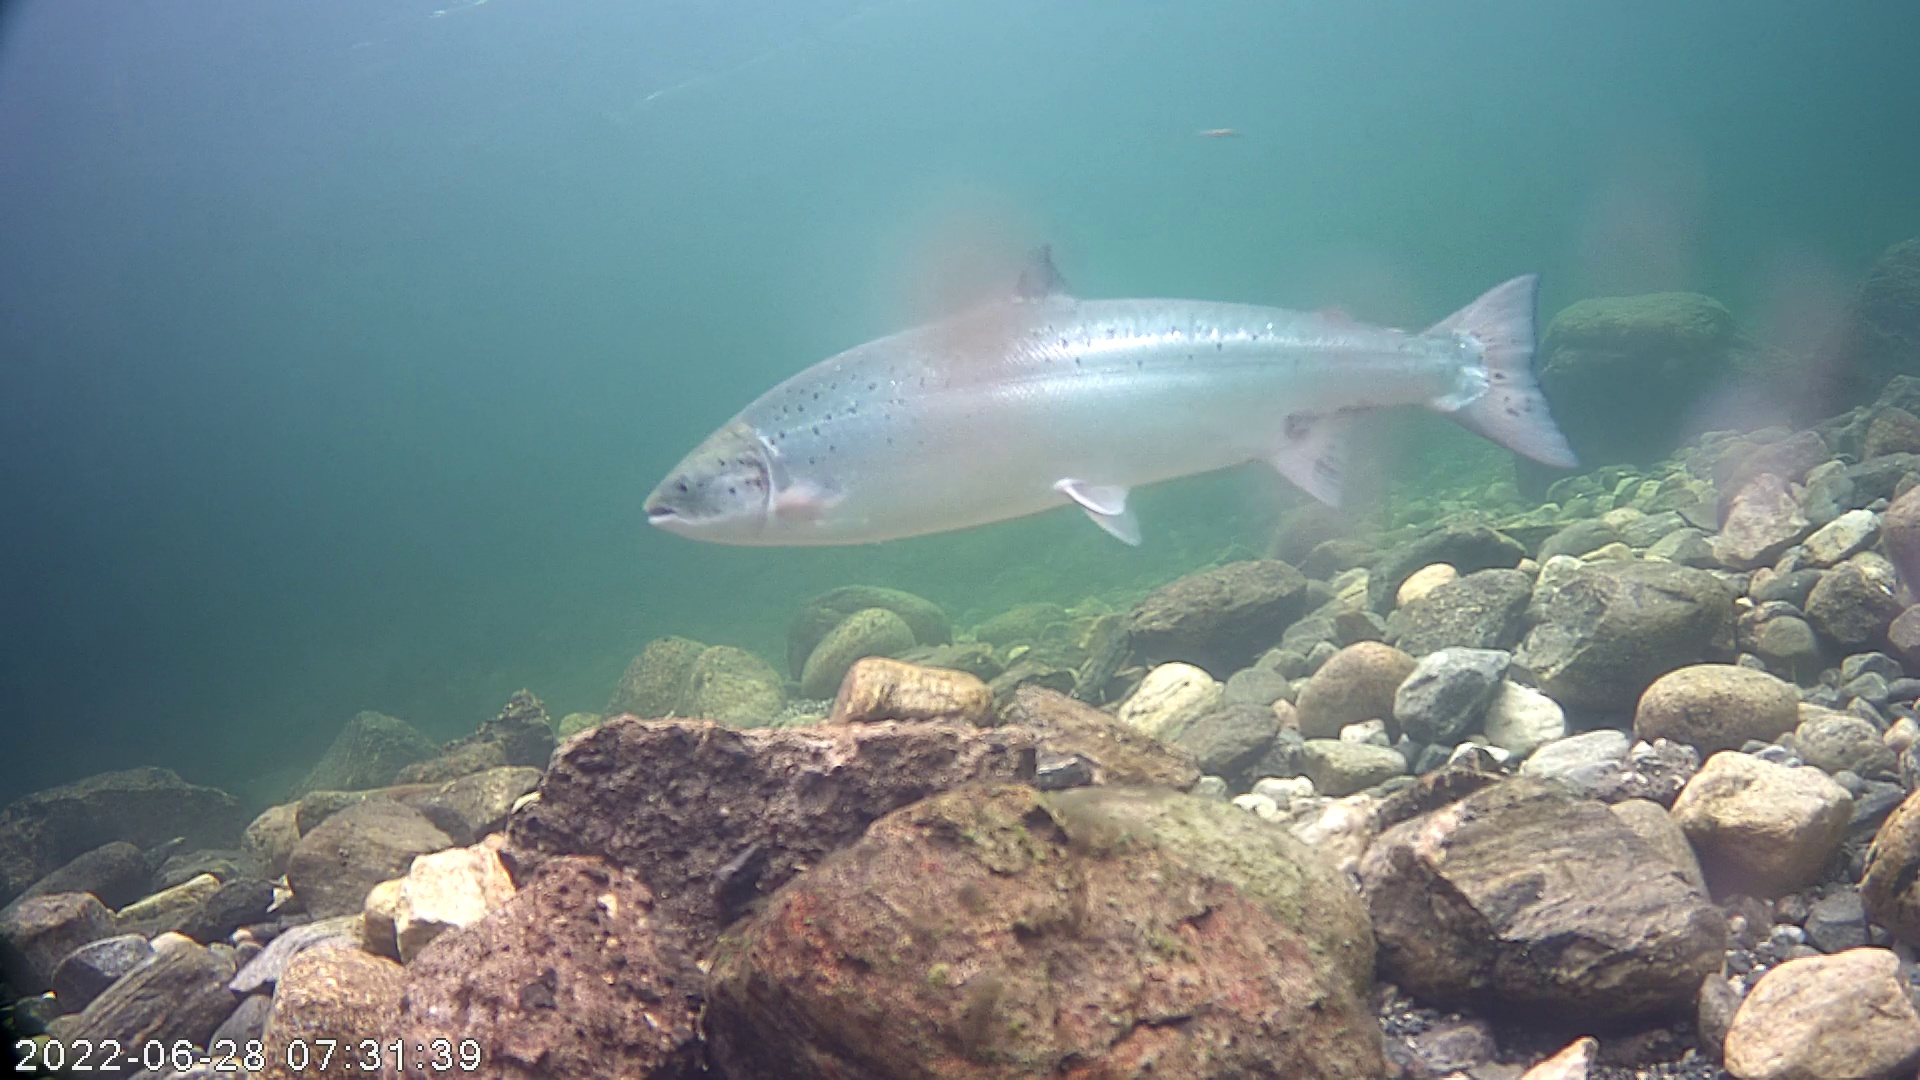salmon: (644, 146, 1602, 595)
